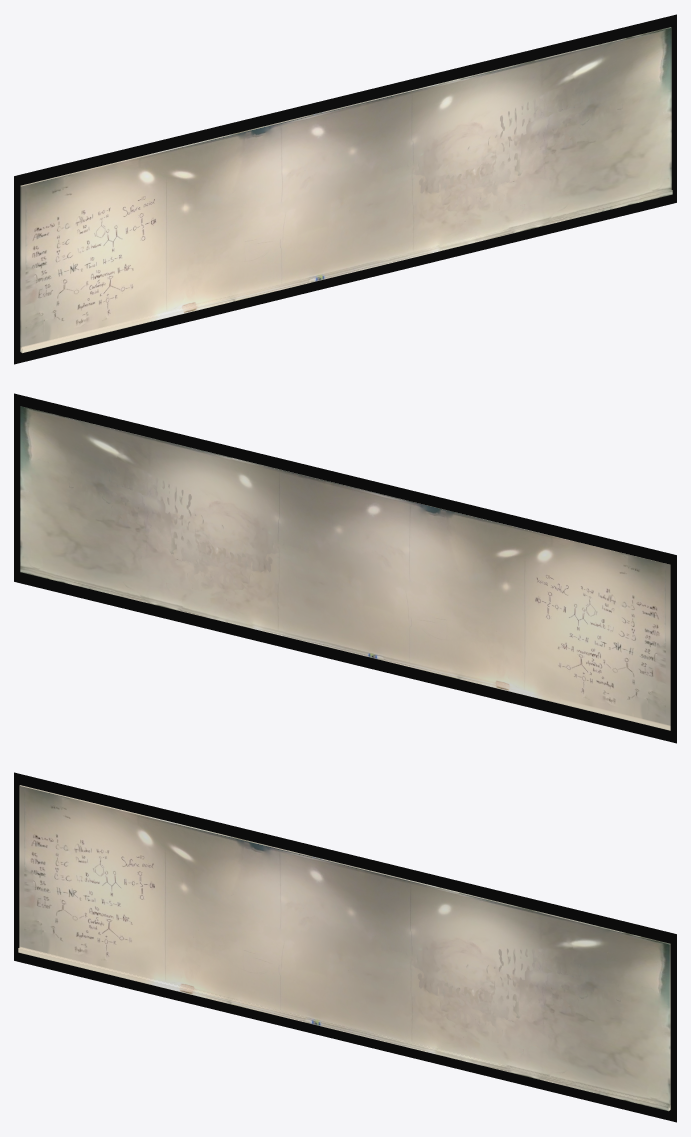
Rendered from whiteboard.glb.
3 renders of one model, top to bottom at view 1: azimuth 30°, elevation 25°; view 2: azimuth 150°, elevation 25°; view 3: azimuth 330°, elevation 25°, orthographic.
Parts seen in each view (by area): view 1: board, shadow, frame; view 2: board, shadow, frame; view 3: board, shadow, frame.
Part boxes in pixels (x1=…): board: x1=22, y1=30, x2=669, y2=347; shadow: x1=14, y1=14, x2=676, y2=364; frame: x1=20, y1=27, x2=672, y2=353; board: x1=21, y1=408, x2=669, y2=725; shadow: x1=14, y1=393, x2=676, y2=743; frame: x1=20, y1=406, x2=670, y2=730; board: x1=21, y1=788, x2=668, y2=1105; shadow: x1=14, y1=772, x2=676, y2=1122; frame: x1=18, y1=785, x2=670, y2=1111.
Bounding box in the file's own units: 6.2 × 1.68 × 0.033.
Materials: 2 (2 with a texture image).
